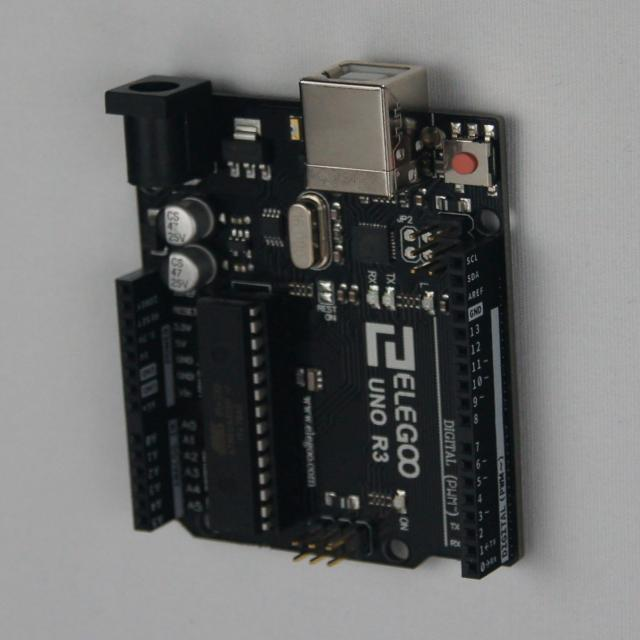Arduino Uno -Black-: (107, 64, 521, 579)
